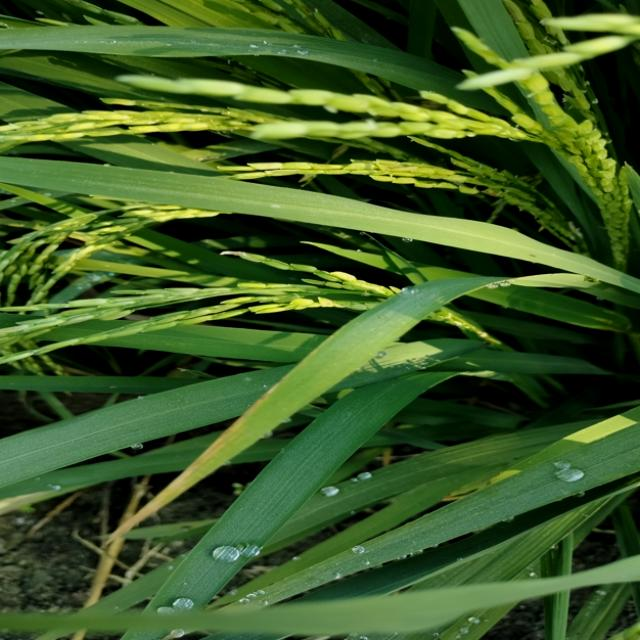Wereng: (97, 378, 290, 556)
